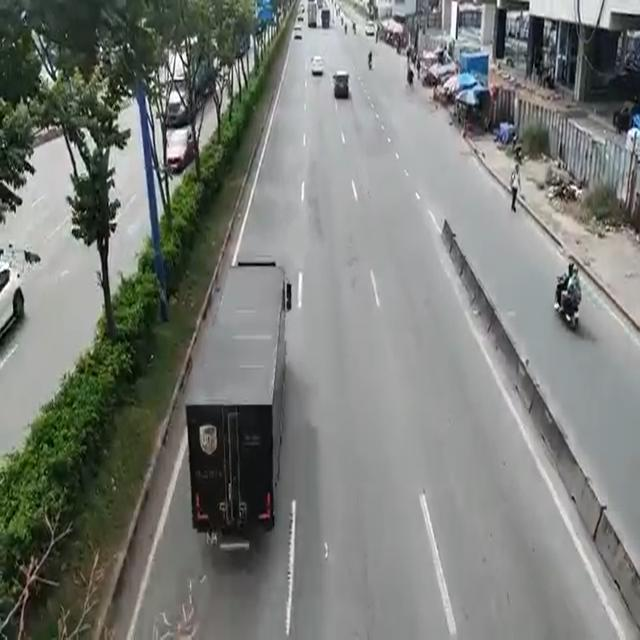car: (330, 64, 348, 99), (309, 52, 320, 83)
truck: (186, 265, 292, 546)
